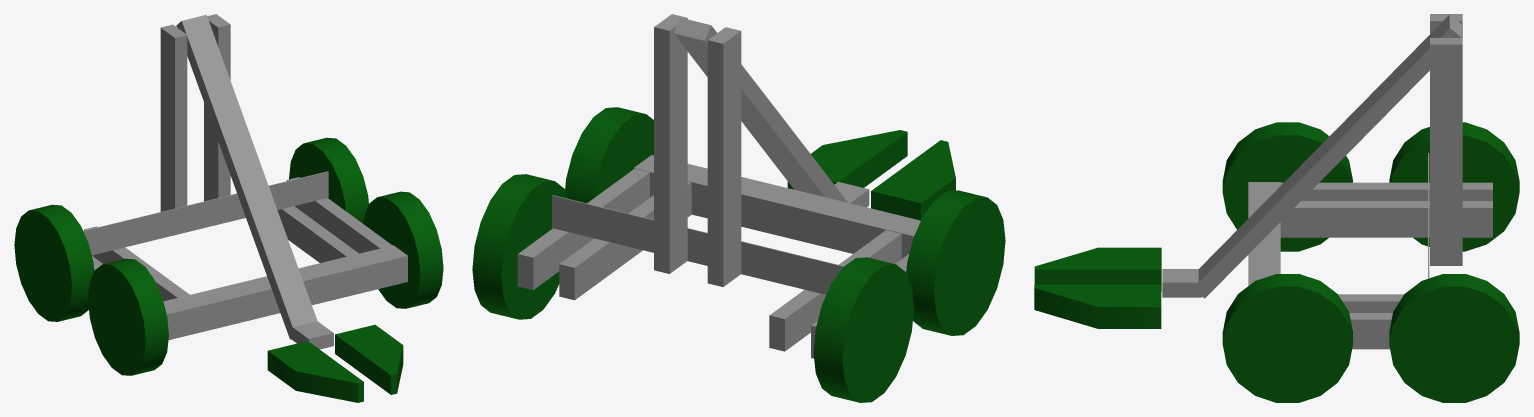
File: vex_clawbot.FBX
The picture shows the model from 3 angles, left to right: view 1: azimuth 30°, elevation 25°; view 2: azimuth 150°, elevation 25°; view 3: azimuth 270°, elevation 25°; orthographic projection. The views are drawn at different scales.
Visible parts, largest first — view 1: Box009, Box002, Cylinder003, Cylinder004, Box006, Cylinder001, Box007, Box011, Cylinder002, Box012, Box008, Box003 (+3 smaller); view 2: Cylinder004, Cylinder003, Box002, Box007, Cylinder002, Box008, Box006, Box009, Cylinder001, Box003, Box011, Box012 (+3 smaller); view 3: Cylinder002, Cylinder001, Box009, Box008, Cylinder003, Box004, Cylinder004, Box012, Box011, Box001, Box002, Box003 (+2 smaller).
Boxes of the visible parts, left/top/right/bottom form: Box009: left=176, top=15, right=317, bottom=339; Box002: left=163, top=245, right=407, bottom=340; Cylinder003: left=88, top=258, right=168, bottom=375; Cylinder004: left=14, top=204, right=94, bottom=321; Box006: left=83, top=171, right=328, bottom=255; Cylinder001: left=363, top=191, right=443, bottom=308; Box007: left=160, top=24, right=187, bottom=211; Box011: left=267, top=341, right=363, bottom=402; Cylinder002: left=289, top=137, right=368, bottom=223; Box012: left=335, top=324, right=403, bottom=394; Box008: left=204, top=14, right=230, bottom=201; Box003: left=286, top=177, right=392, bottom=253; Cylinder004: left=813, top=257, right=913, bottom=402; Cylinder003: left=906, top=190, right=1005, bottom=335; Box002: left=633, top=155, right=920, bottom=258; Box007: left=707, top=27, right=741, bottom=286; Cylinder002: left=472, top=174, right=568, bottom=319; Box008: left=654, top=14, right=687, bottom=273; Box006: left=552, top=195, right=843, bottom=294; Box009: left=673, top=17, right=847, bottom=202; Cylinder001: left=565, top=107, right=653, bottom=203; Box003: left=517, top=168, right=649, bottom=289; Box011: left=871, top=140, right=955, bottom=220; Box012: left=787, top=130, right=907, bottom=189; Cylinder002: left=1389, top=274, right=1519, bottom=402; Cylinder001: left=1222, top=274, right=1352, bottom=402; Box009: left=1198, top=14, right=1461, bottom=298; Box008: left=1430, top=38, right=1462, bottom=265; Cylinder003: left=1222, top=122, right=1352, bottom=251; Box004: left=1280, top=201, right=1492, bottom=237; Cylinder004: left=1389, top=122, right=1519, bottom=251; Box012: left=1034, top=284, right=1161, bottom=328; Box011: left=1034, top=247, right=1161, bottom=291; Box001: left=1280, top=182, right=1492, bottom=200; Box002: left=1248, top=182, right=1280, bottom=285; Box003: left=1349, top=313, right=1392, bottom=349.
Bounding box in the file's own units: 0.3033 × 0.2578 × 0.3783.
